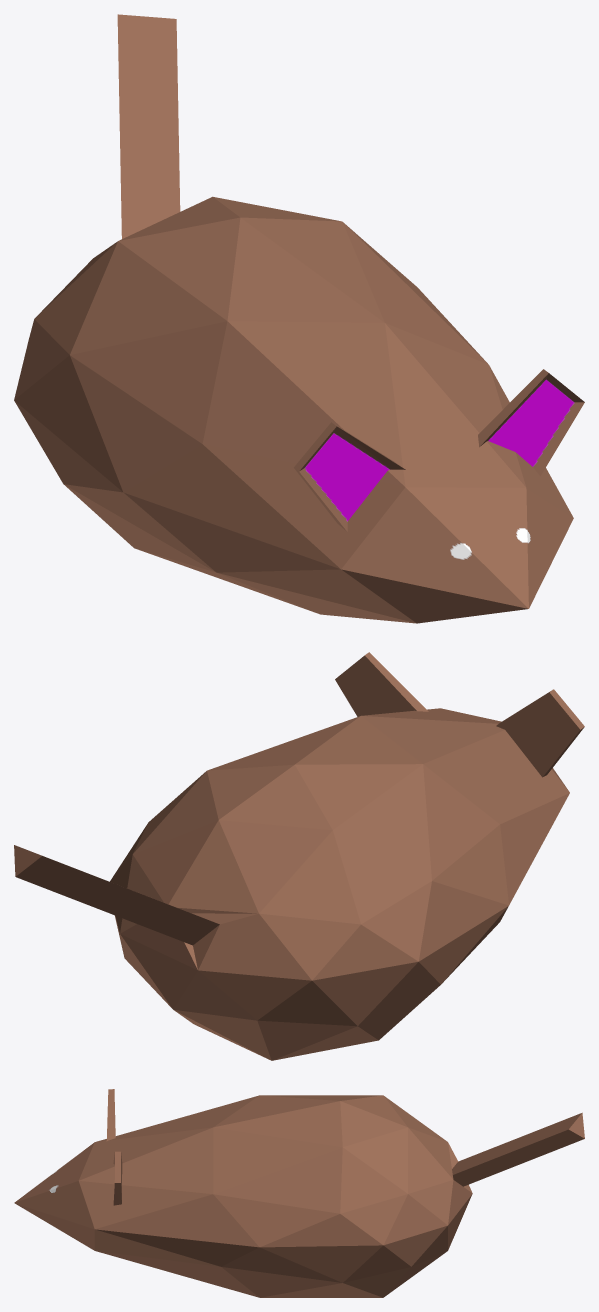
File: rat.obj
The picture shows the model from 3 angles, top to bottom: view 1: azimuth 30°, elevation 25°; view 2: azimuth 150°, elevation 25°; view 3: azimuth 270°, elevation 25°; orthographic projection. The views are drawn at different scales.
Visible parts, largest first — view 1: ICO球; view 2: ICO球; view 3: ICO球.
Part boxes in pixels (left/top/right/bottom): ICO球: left=14, top=14, right=584, bottom=623; ICO球: left=14, top=652, right=584, bottom=1060; ICO球: left=14, top=1089, right=584, bottom=1297.
Size of the model in its own units: 1.9 by 1.75 by 4.42.
Materials: 1 (1 with a texture image).
